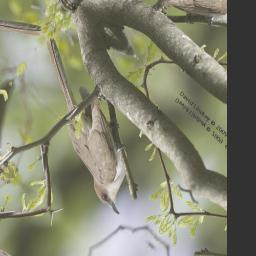Cuckoo: (0, 35, 168, 217)
